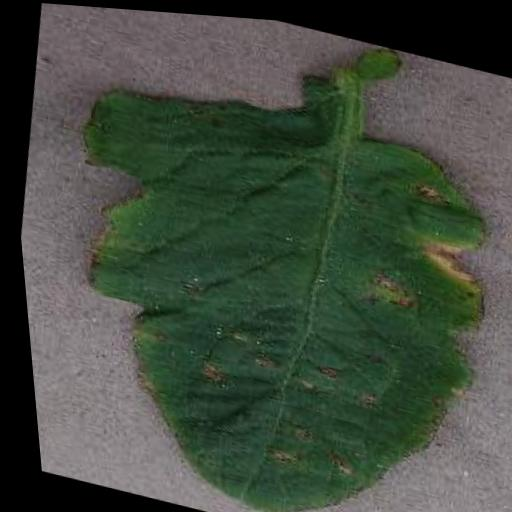Bacterial Spot: (9, 51, 512, 512)
